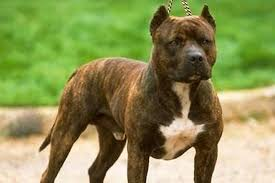Perro Pitbull: (126, 5, 228, 183)
